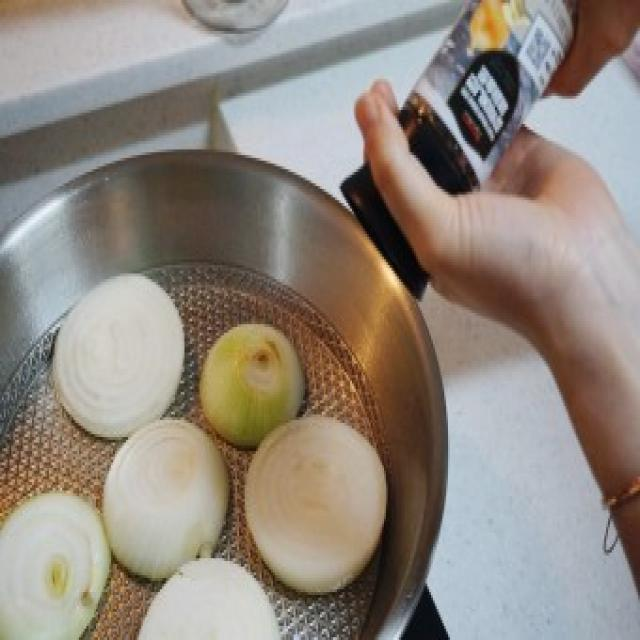onion: (235, 396, 392, 586), (45, 261, 182, 434), (108, 426, 234, 563), (198, 310, 318, 451), (4, 492, 104, 638), (127, 559, 288, 640)
